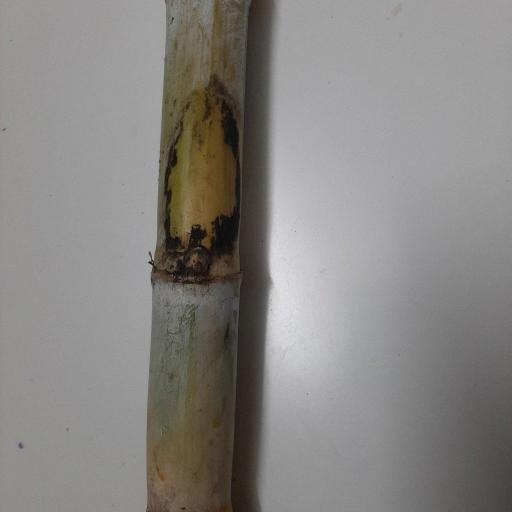Bud: (183, 247, 210, 277)
